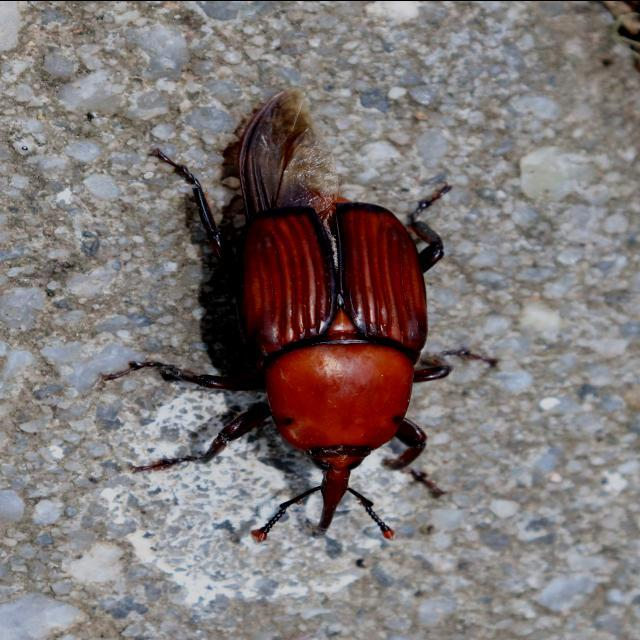Red-palm-weevil: (179, 166, 439, 552)
